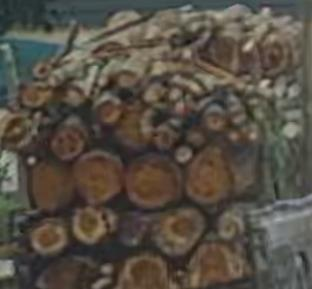large: (128, 156, 180, 207), (189, 246, 249, 286), (157, 209, 208, 256), (188, 150, 230, 203), (74, 158, 122, 204), (37, 259, 111, 288), (34, 159, 75, 210), (117, 258, 176, 288), (26, 221, 69, 255), (73, 210, 109, 244)
medium: (1, 114, 37, 151), (50, 125, 85, 157), (117, 118, 149, 149), (216, 214, 241, 240), (22, 84, 46, 106), (95, 101, 120, 122), (205, 112, 227, 130), (156, 131, 172, 148)
small: (144, 85, 166, 103), (225, 91, 241, 111), (116, 72, 135, 86), (175, 97, 191, 113), (189, 132, 204, 148), (34, 64, 50, 78), (177, 147, 191, 161), (233, 114, 247, 124), (227, 131, 240, 141), (248, 133, 257, 141)
